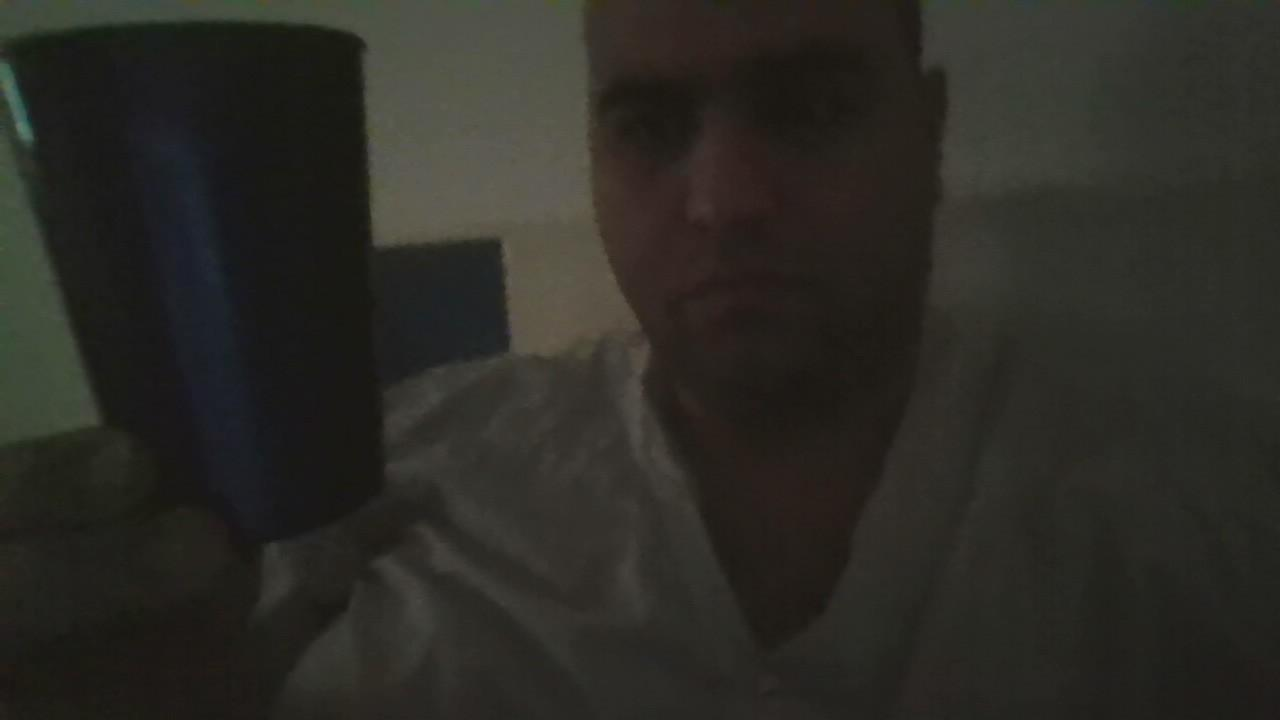cup: (0, 21, 381, 542)
